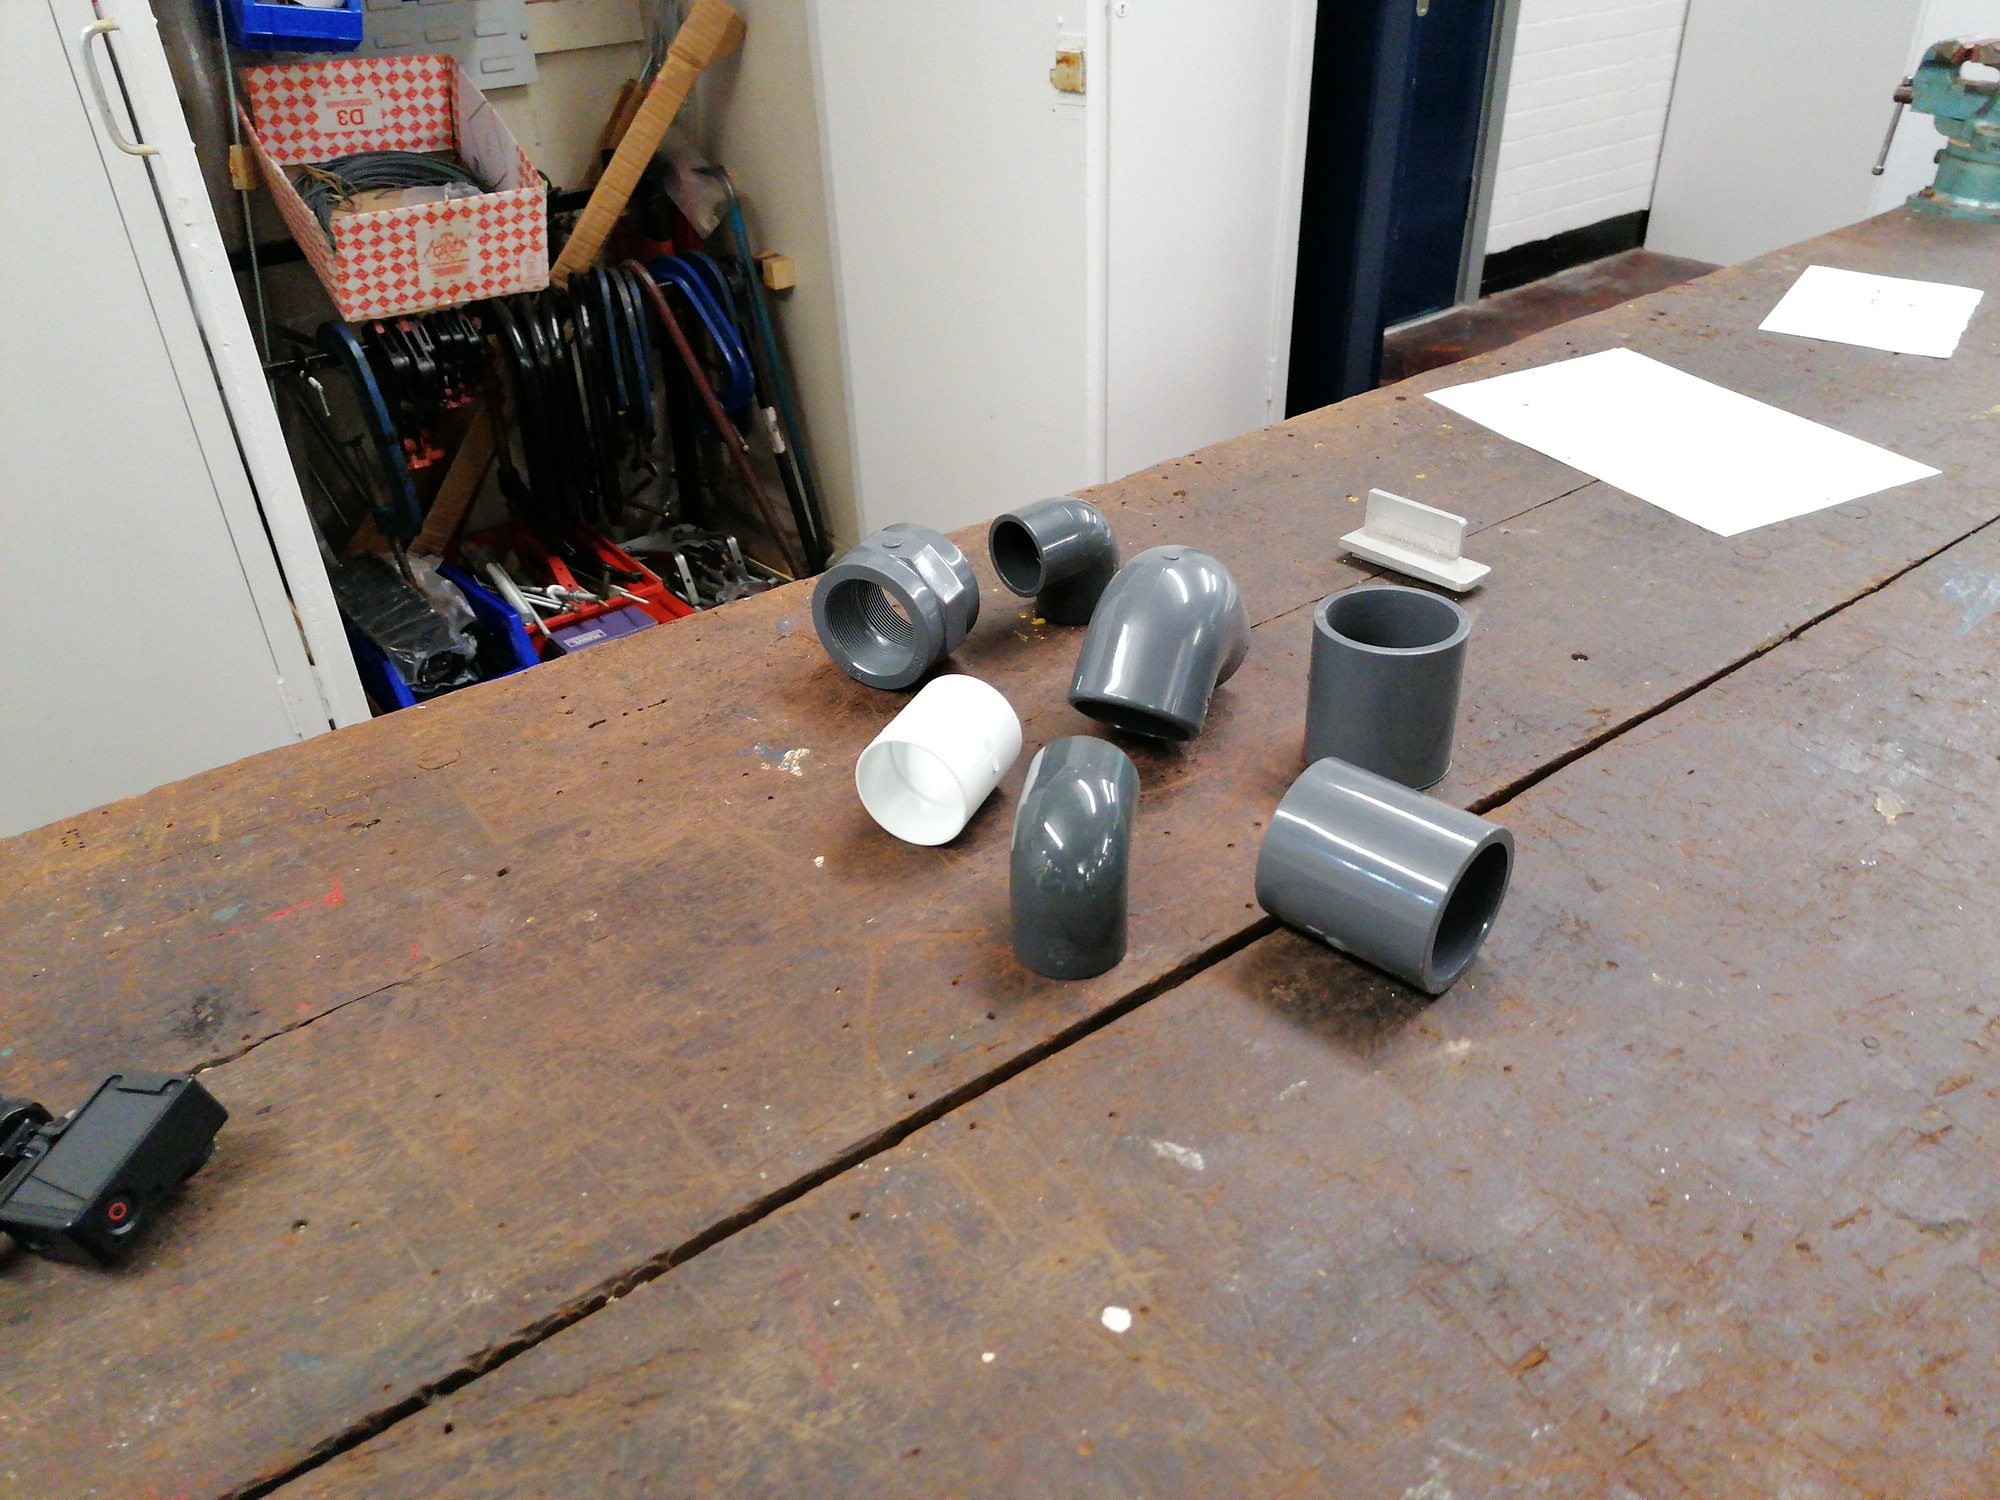nut: (809, 520, 980, 692)
pipe: (1254, 755, 1517, 994), (1065, 542, 1254, 744), (1299, 585, 1472, 793), (1006, 733, 1142, 978), (850, 671, 1025, 848), (984, 492, 1123, 626)
